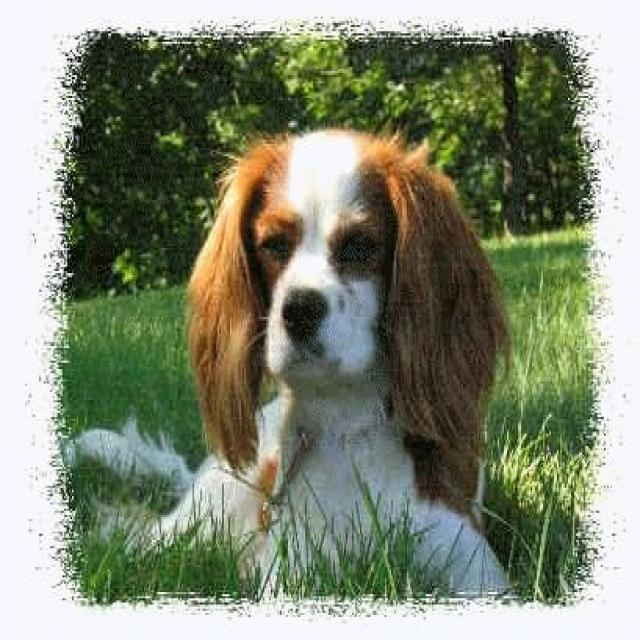blenheim_spaniel: (73, 130, 515, 600)
